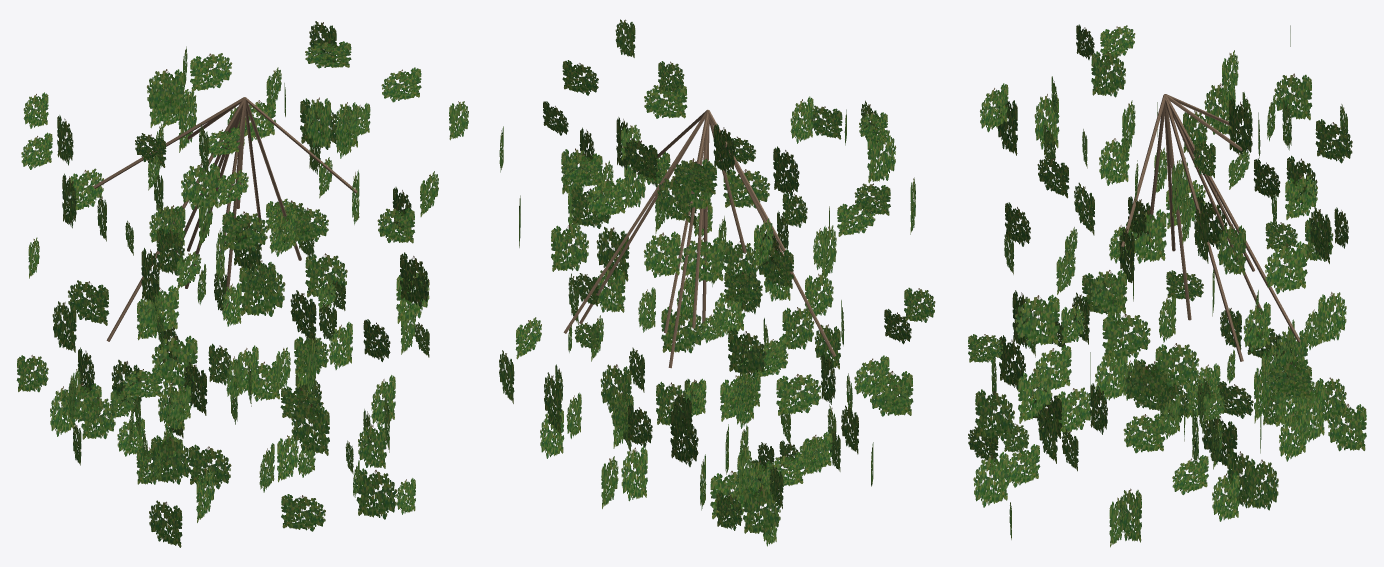
File: laubvorhang_cluster.glb
3 renders of one model, left to right at view 1: azimuth 30°, elevation 25°; view 2: azimuth 150°, elevation 25°; view 3: azimuth 270°, elevation 25°, orthographic. The views are drawn at different scales.
Parts seen in each view (by area): view 1: laubvorhang_cluster_n2, laubvorhang_cluster_n1; view 2: laubvorhang_cluster_n2, laubvorhang_cluster_n1; view 3: laubvorhang_cluster_n2, laubvorhang_cluster_n1.
Boxes of the visible parts, x1=… form: laubvorhang_cluster_n2: x1=16, y1=21, x2=468, y2=547; laubvorhang_cluster_n1: x1=93, y1=97, x2=357, y2=341; laubvorhang_cluster_n2: x1=499, y1=19, x2=935, y2=546; laubvorhang_cluster_n1: x1=563, y1=109, x2=836, y2=368; laubvorhang_cluster_n2: x1=968, y1=24, x2=1366, y2=547; laubvorhang_cluster_n1: x1=1121, y1=94, x2=1300, y2=361.
Bounding box in the file's own units: 3.14 × 3.71 × 3.2.
Materials: 1 (1 with a texture image).
